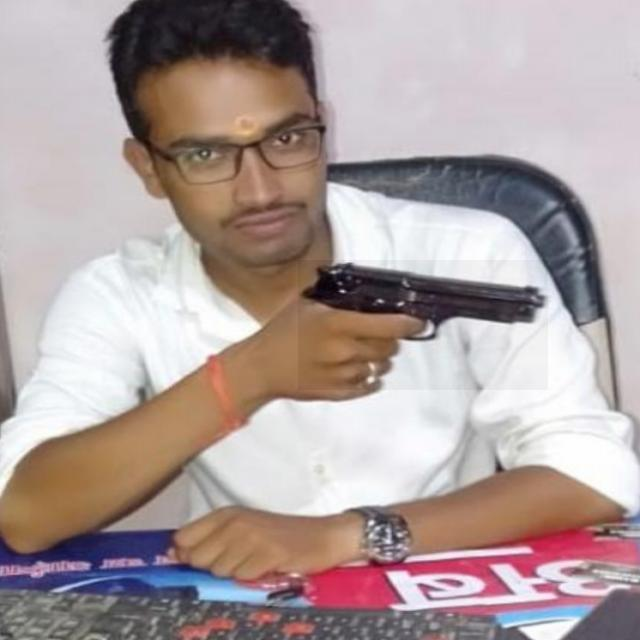handgun: (298, 260, 548, 390)
